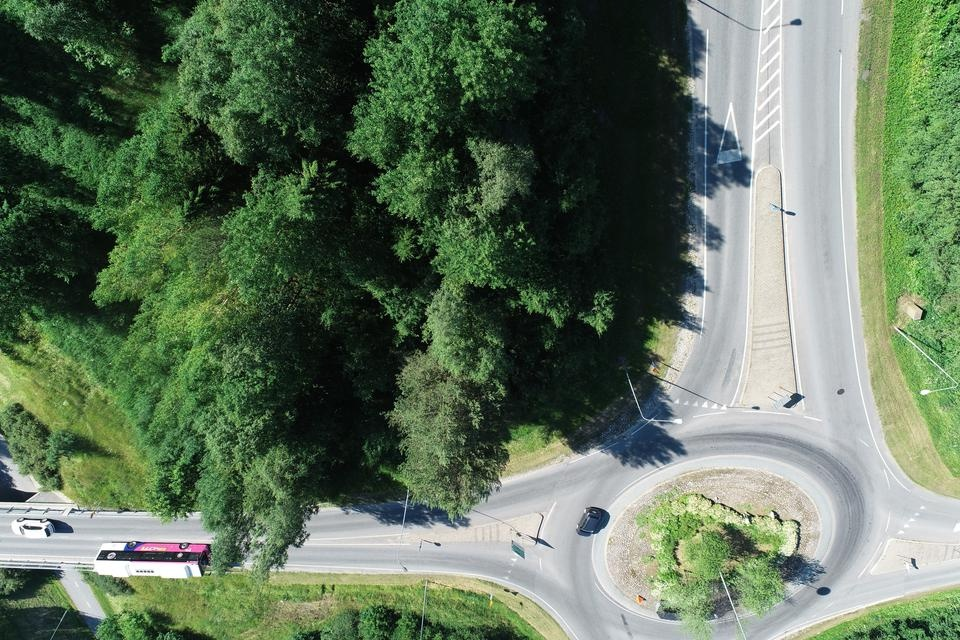roundabout: (472, 346, 930, 640)
